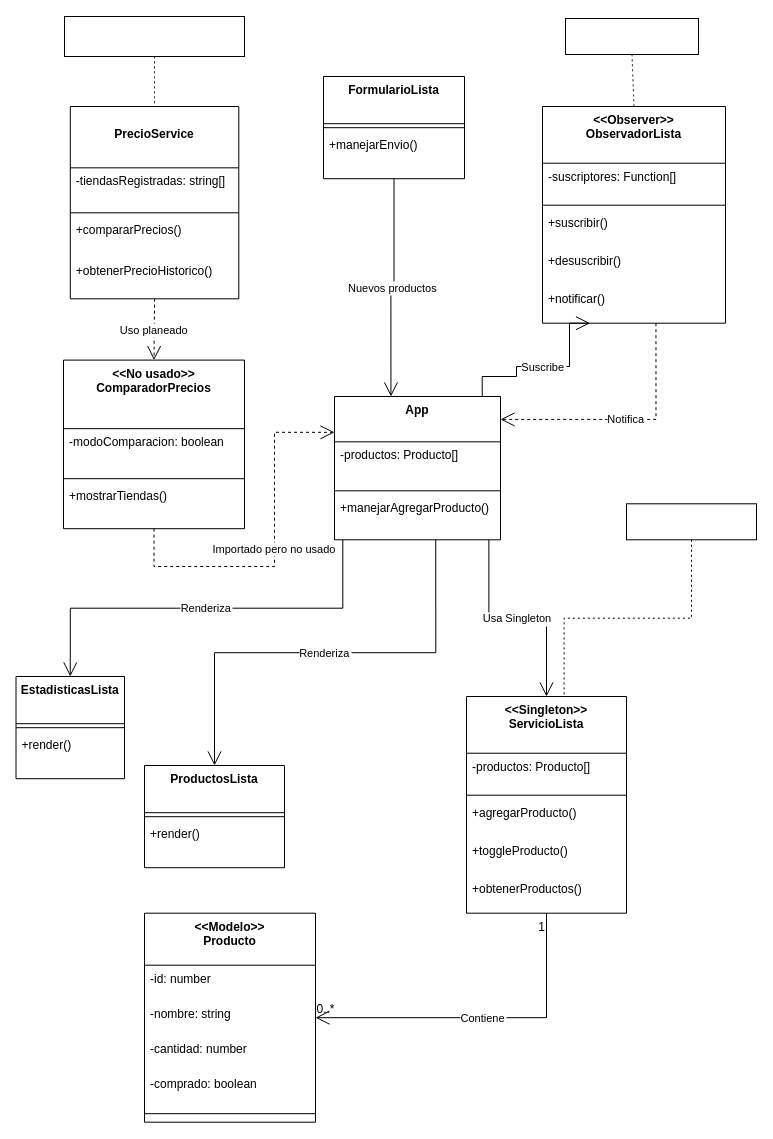
The diagram is 773 pixels wide and 1139 high, and some of its shapes have lost their labels. Here are the shapes that lost their labels. From the top down, the centre of each, then its label:
At (154,36): "Anti-Patrón Lava Flow - Código abandonado - Dependencias muertas".
At (631,36): "Patrón Observer - Notificaciones - Suscripciones".
At (691,521): "Patrón Singleton - Instancia única - Estado global".
